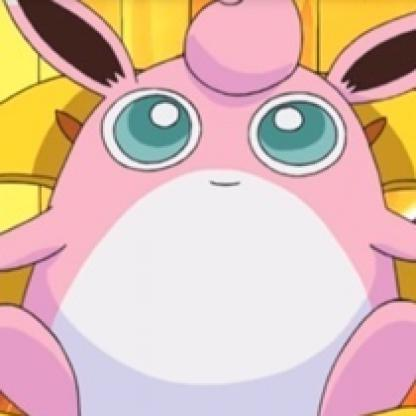Wigglytuff: (1, 1, 415, 415)
